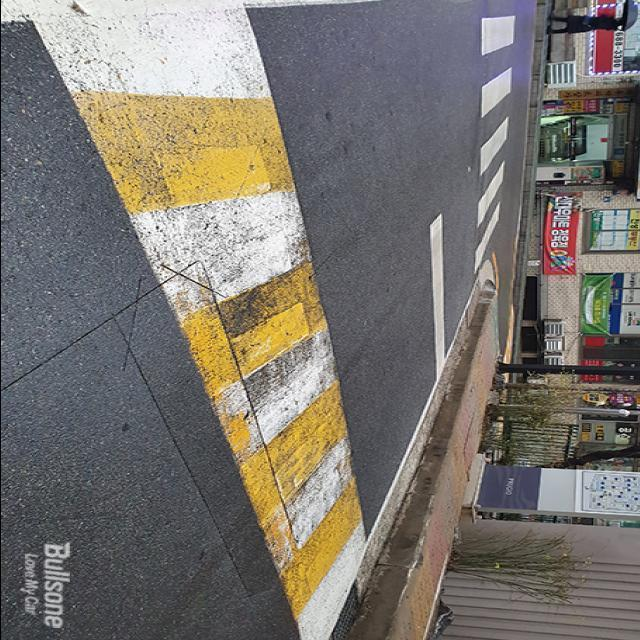speedbreaker: (24, 0, 367, 640)
